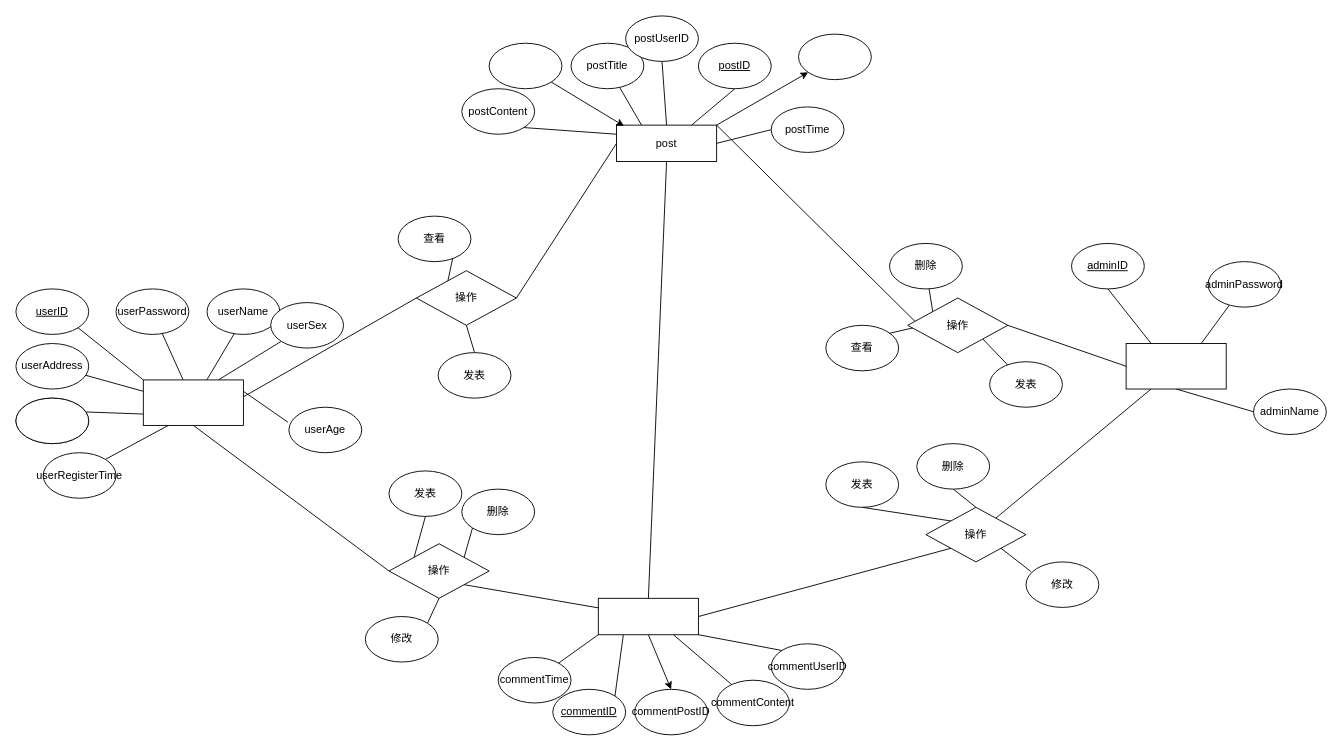
This 1342x751 diagram has some shape labels left out. Here are the shapes that lost their labels. From the top down, the centre of each, then its label:
pixel 525 65: postCommentCount
pixel 834 56: postLastCommentTime
pixel 1175 366: admin
pixel 52 420: userTelephone
pixel 192 402: user
pixel 647 616: comment
